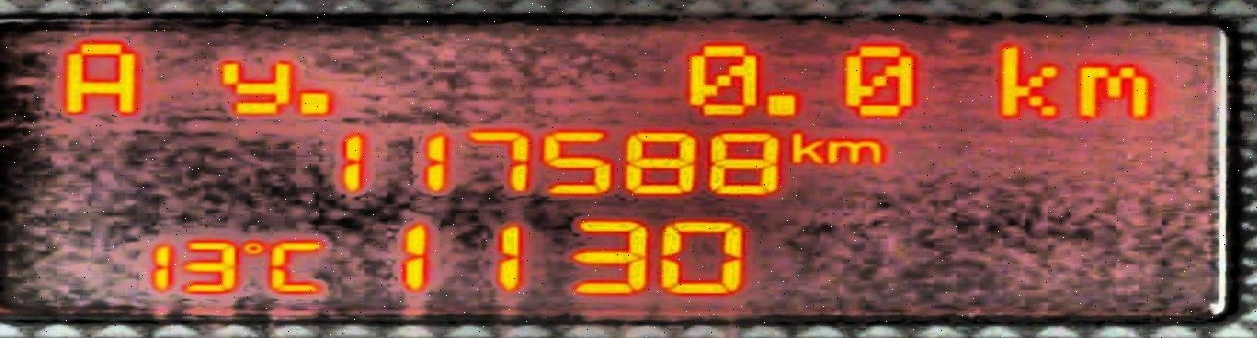-: (292, 84, 336, 117), (760, 89, 801, 120)
0: (653, 215, 751, 296), (832, 37, 921, 121), (679, 37, 760, 121)
1: (484, 215, 532, 295), (388, 217, 437, 295), (328, 125, 374, 196), (415, 128, 455, 197), (141, 238, 176, 293)
3: (562, 216, 650, 297), (180, 237, 236, 297)
5: (539, 125, 615, 198)
7: (458, 122, 532, 195)
8: (620, 127, 700, 196), (707, 127, 780, 197)
X: (53, 37, 142, 118), (988, 37, 1062, 122), (1066, 57, 1153, 122), (212, 54, 291, 116), (266, 234, 328, 296), (824, 136, 885, 168), (790, 122, 824, 167)
